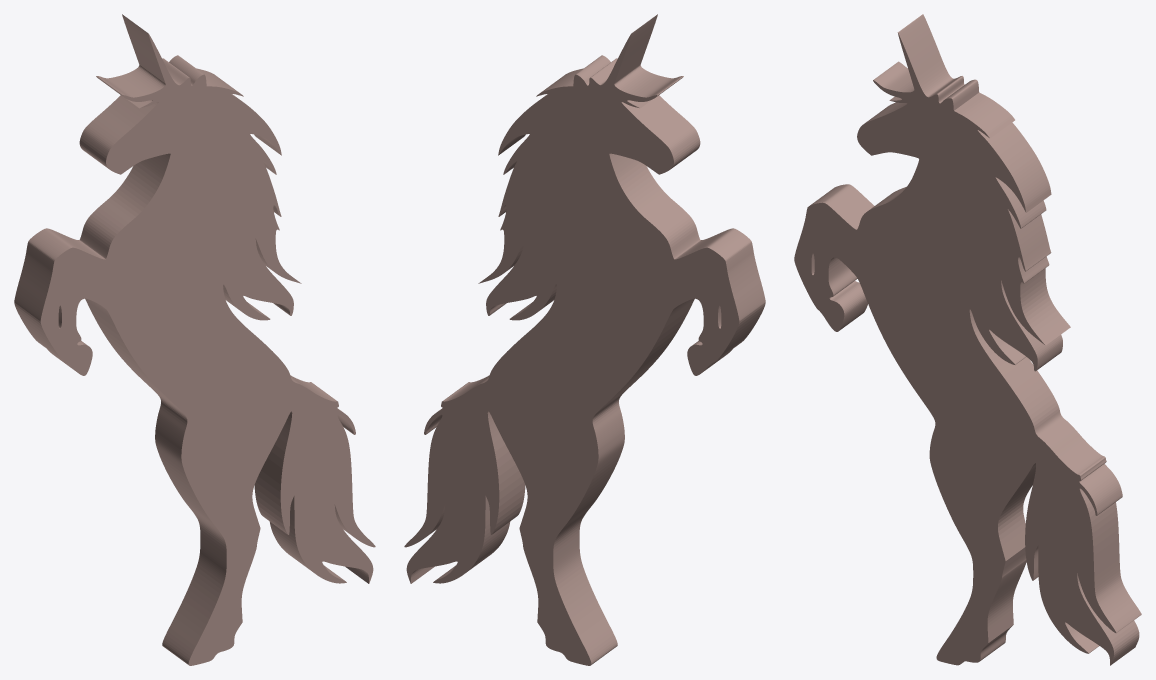
The model's file is uploads_files_2958206_10.Horse.fbx.
3 views of the same model, side by side, from view 1: azimuth 30°, elevation 25°; view 2: azimuth 150°, elevation 25°; view 3: azimuth 330°, elevation 25° (orthographic). The views are drawn at different scales.
Visible parts, largest first — view 1: path32; view 2: path32; view 3: path32.
Boxes of the visible parts, x1,y1,x2,y2 form: path32: [14, 14, 375, 665]; path32: [404, 14, 765, 665]; path32: [794, 14, 1141, 665].
Size of the model in its own units: 8.01 by 14.7 by 1.09.
